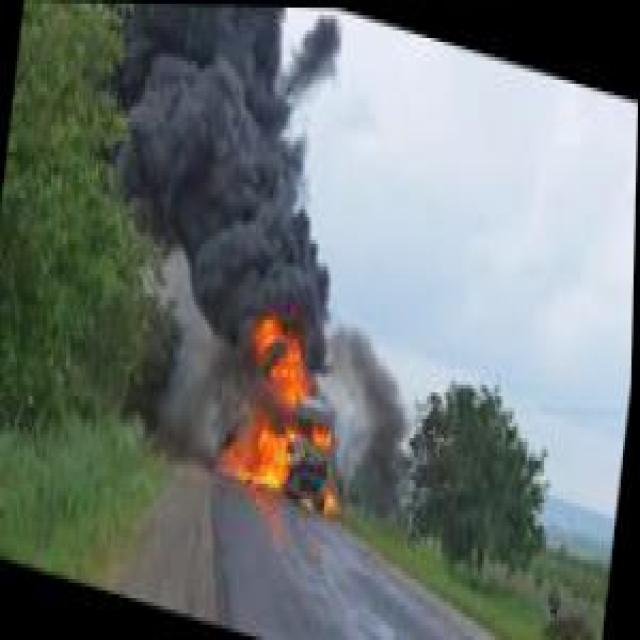Fire: (200, 301, 370, 526)
Smoke: (0, 0, 373, 339), (142, 308, 232, 488), (346, 328, 422, 530)
